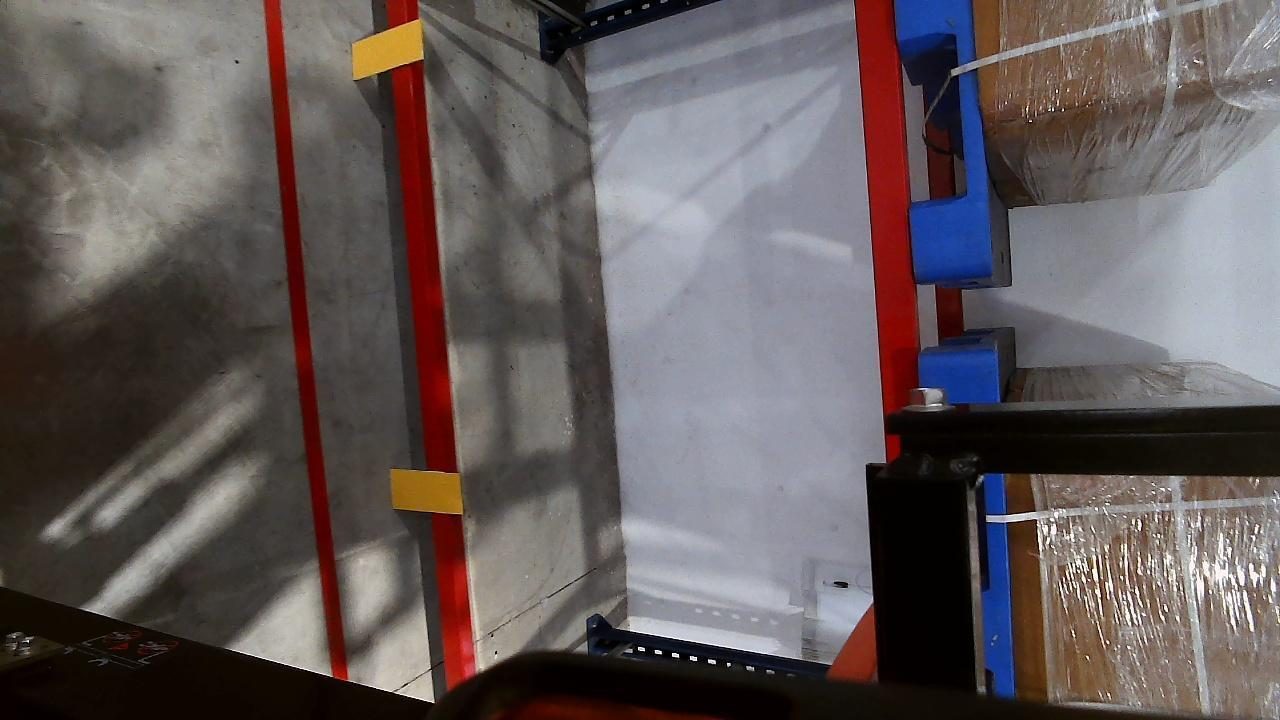red_line: (258, 1, 346, 676)
